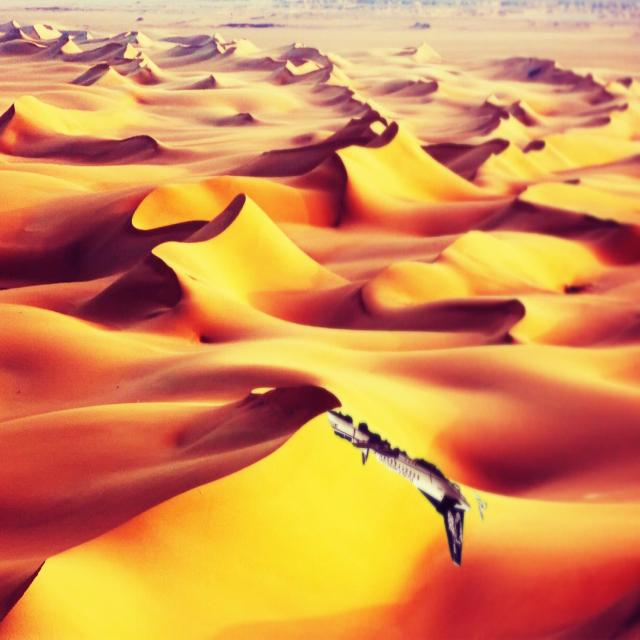airplane: (326, 407, 471, 567)
